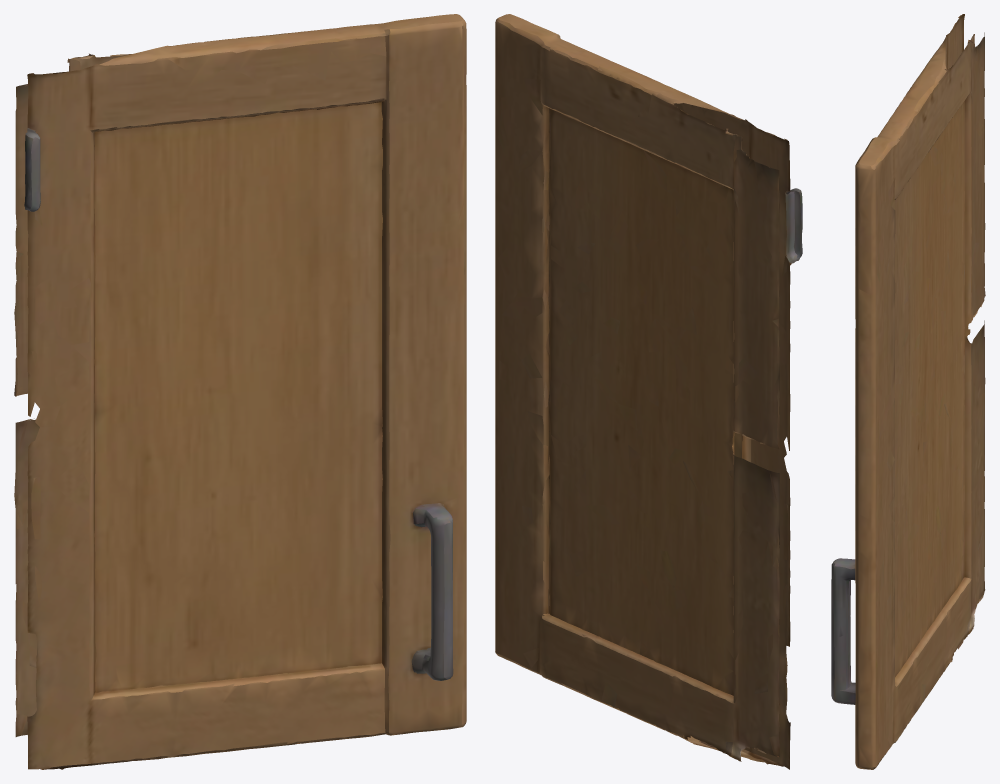
Rendered from door.glb.
3 renders of one model, left to right at view 1: azimuth 30°, elevation 25°; view 2: azimuth 150°, elevation 25°; view 3: azimuth 270°, elevation 25°, orthographic. The views are drawn at different scales.
Visible parts, largest first — view 1: world; view 2: world; view 3: world.
Part boxes in pixels (x1,y1,x2,y2): world: (14,14,466,769); world: (495,14,802,769); world: (831,14,985,769).
Bounding box in the file's own units: 0.4296 × 0.7478 × 0.1726.
1 material, 1 textured.
